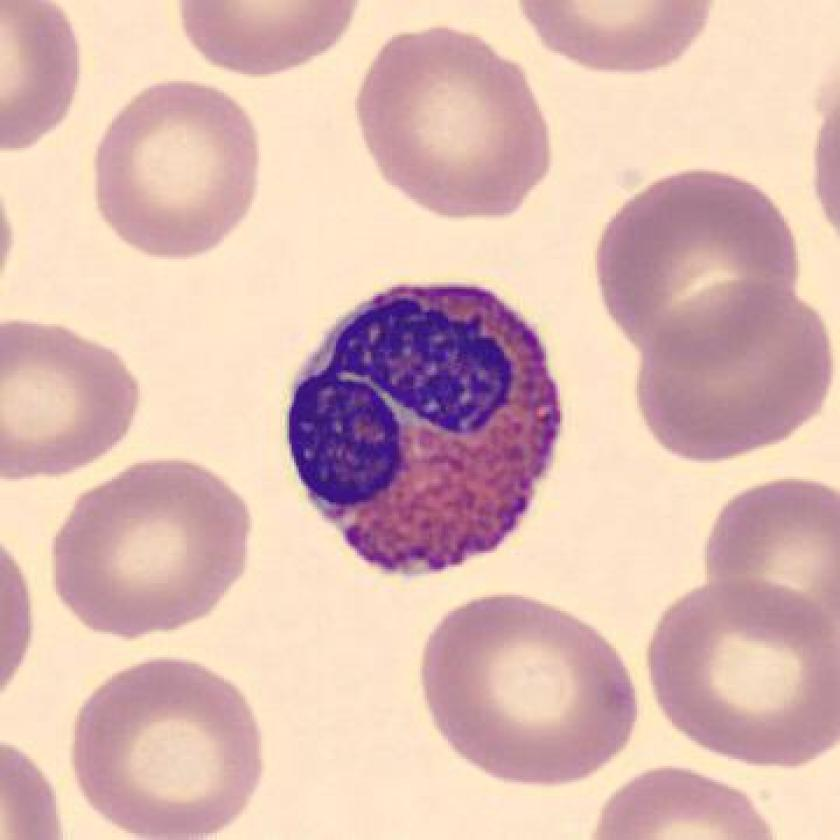eosinophil: (279, 267, 570, 594)
